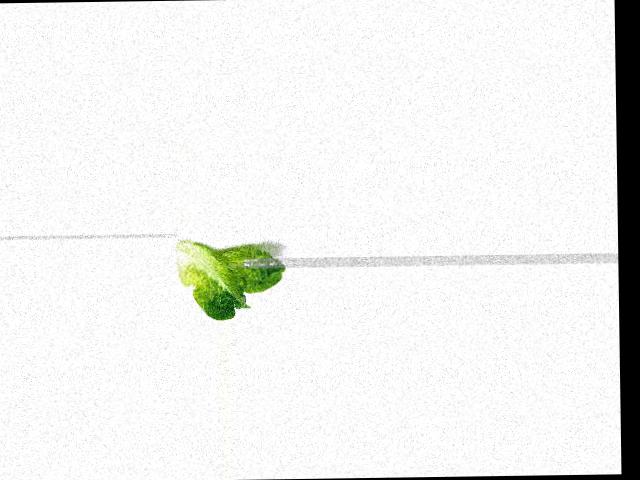lettuce: (172, 243, 289, 321)
